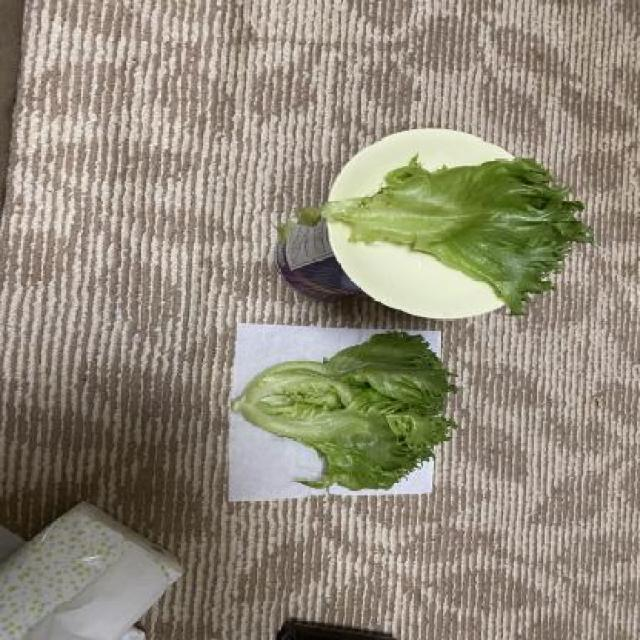lettuce: (294, 150, 596, 318), (227, 332, 466, 494)
